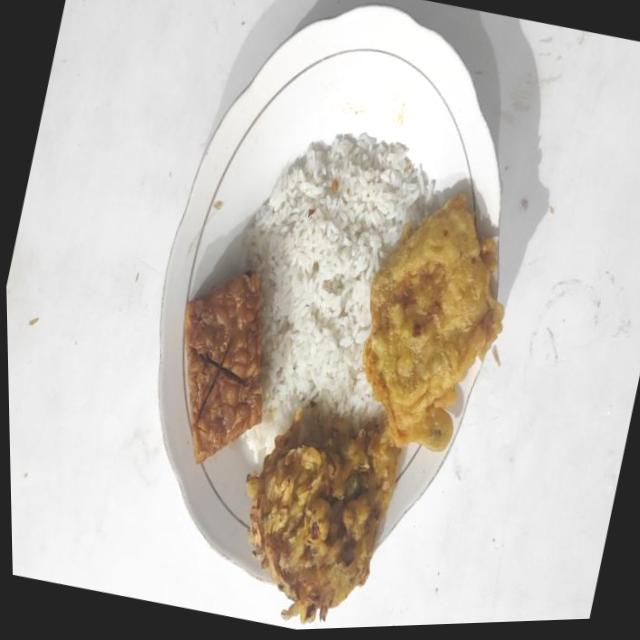nasi_putih: (245, 132, 434, 462)
tempe_goreng: (184, 271, 262, 463)
